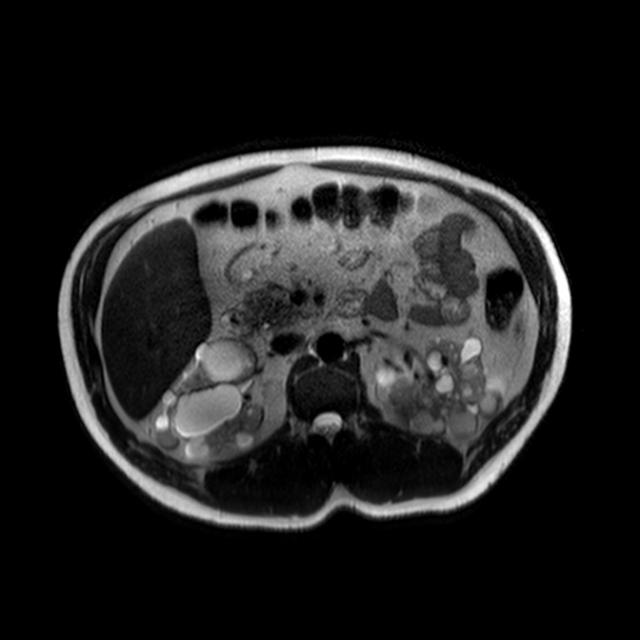sag: (153, 337, 268, 461)
sol: (373, 337, 503, 440)
